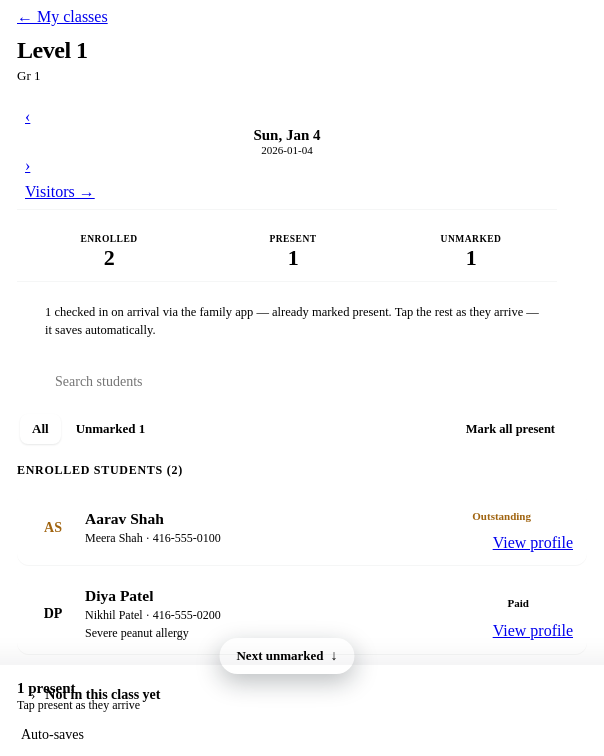
search filters the roster by name
Check: the number of elements with test id "att-row" is 2, box [17, 490, 587, 566]; [17, 574, 587, 654]
Type "diya" into the field labelled "Search students" at (287,382), box [17, 364, 557, 402]
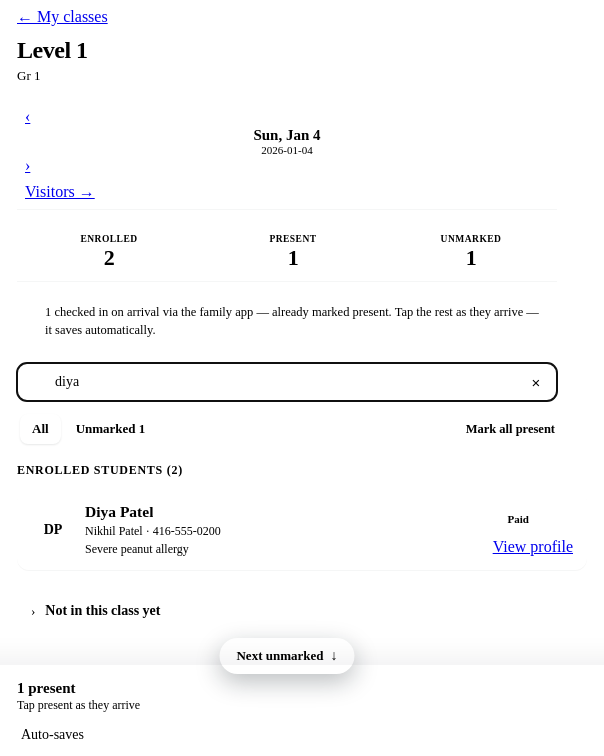
Check: the text "Diya Patel" is shown, box [85, 504, 154, 522]
Check: the number of elements with test id "att-row" is 1, box [17, 490, 587, 570]
Check: the button "Aarav Shah" is gone
